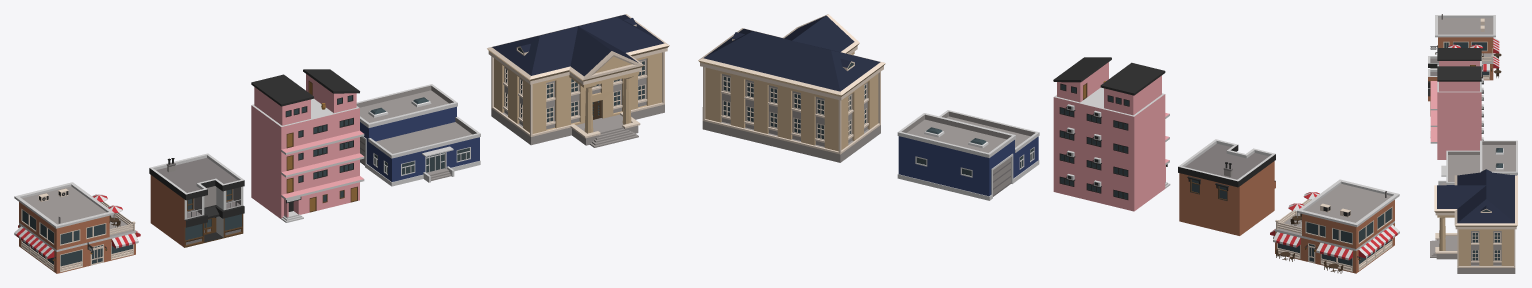
File: commercial_buildings.glb
The picture shows the model from 3 angles, left to right: view 1: azimuth 30°, elevation 25°; view 2: azimuth 150°, elevation 25°; view 3: azimuth 270°, elevation 25°; orthographic projection. The views are drawn at different scales.
Visible parts, largest first — view 1: building-museum, building-apartments, building-post, building-restaurant, building-shops; view 2: building-museum, building-apartments, building-post, building-restaurant, building-shops; view 3: building-museum, building-apartments, building-restaurant, building-post, building-shops.
Boxes of the visible parts, <box> form: building-museum: <box>487,14,669,147</box>; building-apartments: <box>251,69,364,222</box>; building-post: <box>356,84,480,186</box>; building-restaurant: <box>14,182,140,273</box>; building-shops: <box>149,153,244,247</box>; building-museum: <box>698,14,885,162</box>; building-apartments: <box>1053,57,1170,211</box>; building-post: <box>897,110,1039,200</box>; building-restaurant: <box>1270,179,1399,273</box>; building-shops: <box>1178,139,1275,235</box>; building-museum: <box>1430,169,1517,273</box>; building-apartments: <box>1430,48,1483,159</box>; building-restaurant: <box>1430,14,1501,80</box>; building-post: <box>1438,140,1517,185</box>; building-shops: <box>1428,56,1482,116</box>.
Size of the model in its own units: 96.56 by 16.86 by 16.22.
